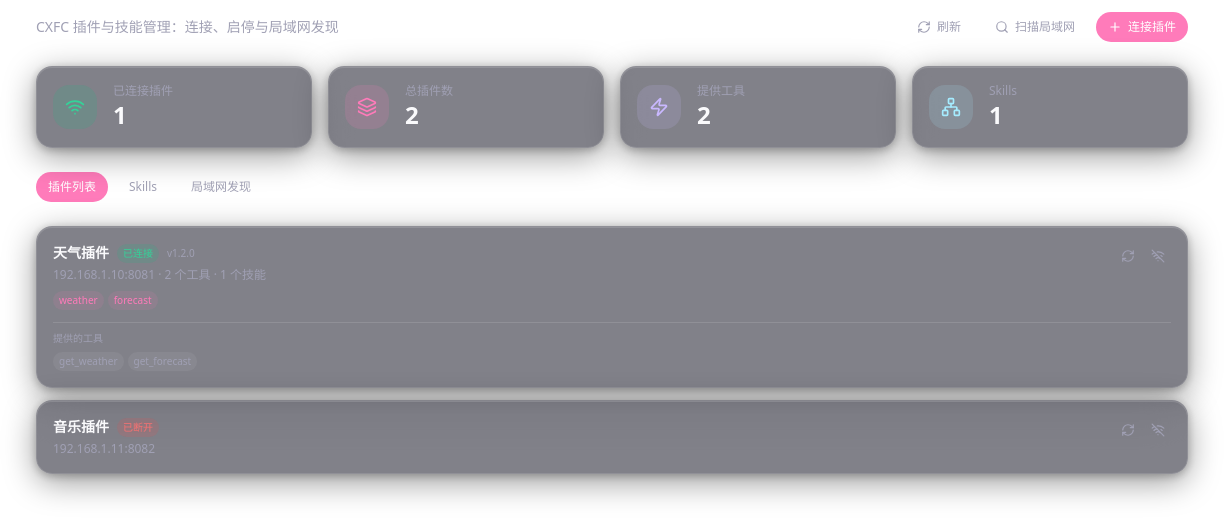
PluginsPage 插件页 › Skills Tab 展示技能（触发关键词 + 自动注入徽章）
The width and height of the screenshot is (1225, 519).
Expected: the text "天气插件" is shown, [53, 243, 109, 263]
Click the button "Skills" at (143, 187), box [116, 172, 170, 202]
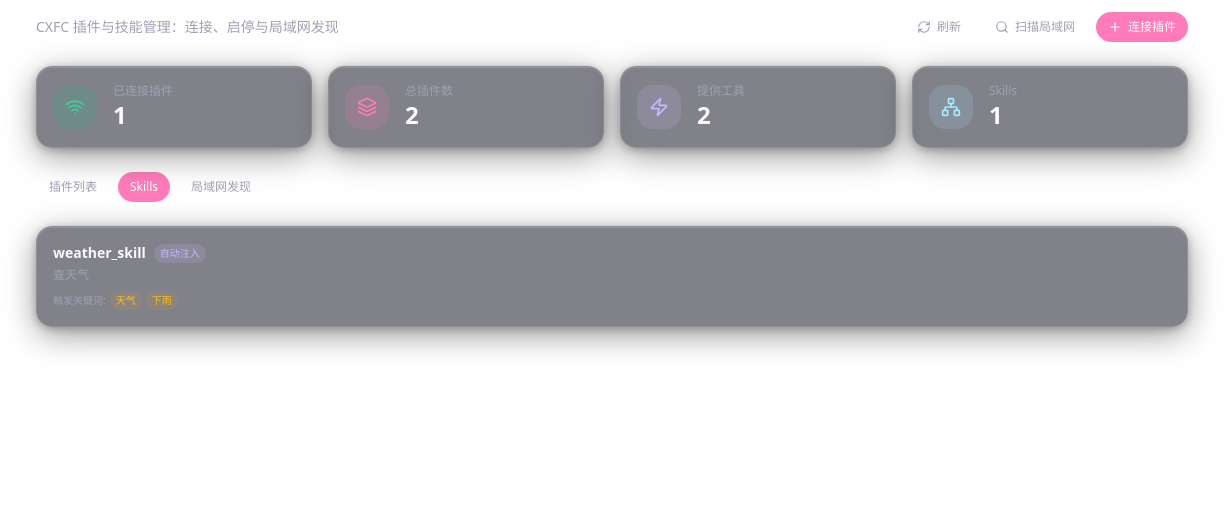
Now the text "weather_skill" is shown, box [53, 243, 146, 263]
Now the text "自动注入" is shown, box [154, 244, 206, 262]
Now the text "天气" is shown, box [110, 291, 142, 310]
